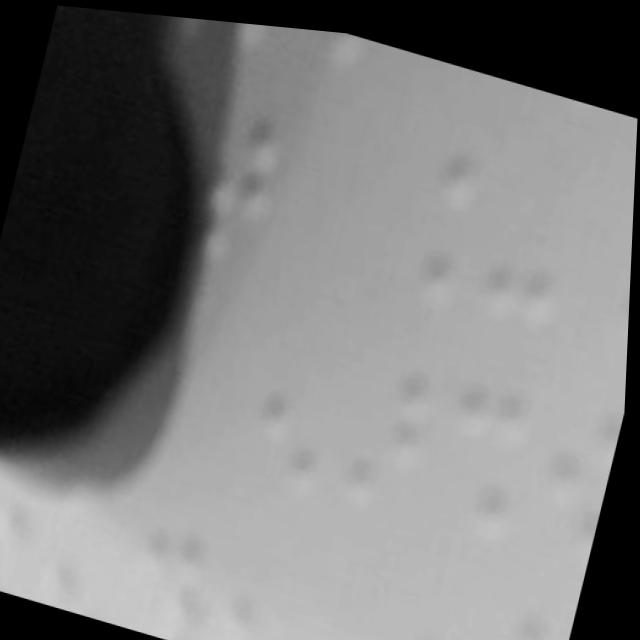braiile: (180, 77, 303, 275), (461, 136, 583, 333), (370, 117, 488, 307), (327, 343, 448, 524), (231, 319, 346, 502), (425, 365, 542, 541), (516, 390, 625, 567), (29, 491, 138, 621), (564, 159, 636, 344), (206, 531, 319, 640), (389, 564, 504, 640), (0, 482, 41, 595), (486, 594, 578, 640)
